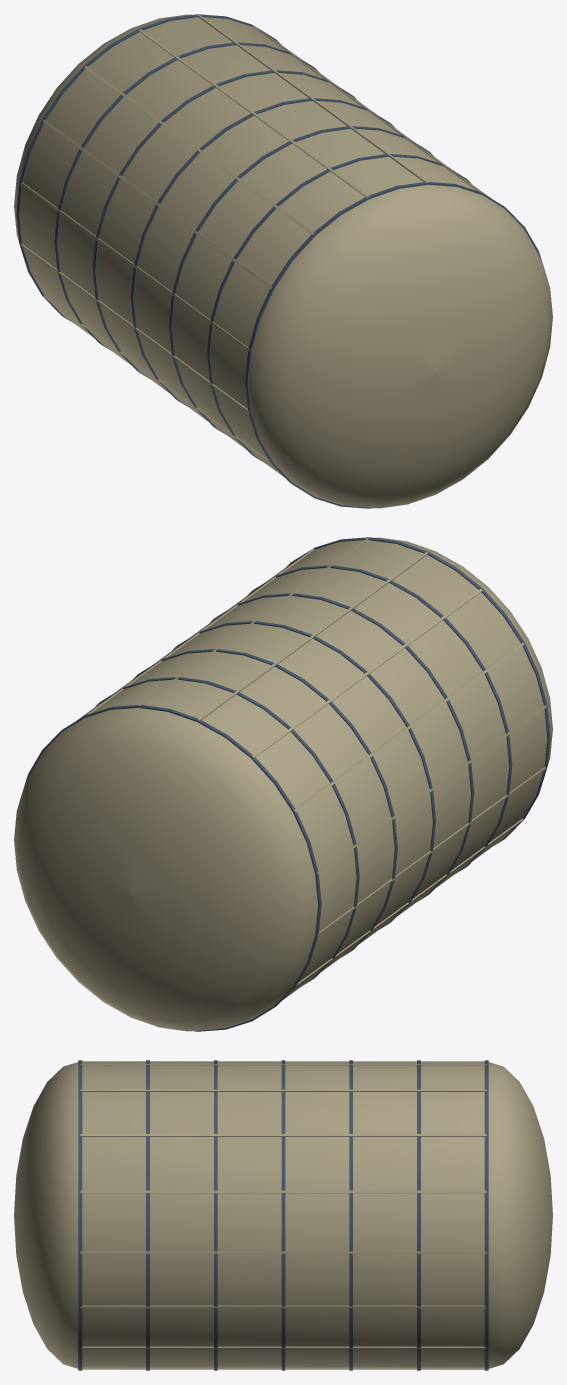
Rendered from kc1000_insulation.obj.
3 renders of one model, top to bottom at view 1: azimuth 30°, elevation 25°; view 2: azimuth 150°, elevation 25°; view 3: azimuth 270°, elevation 25°, orthographic. The views are drawn at different scales.
Visible parts, largest first — view 1: kc1000_insulation; view 2: kc1000_insulation; view 3: kc1000_insulation.
Boxes of the visible parts, bbox=[...] form: kc1000_insulation: bbox=[14, 14, 552, 508]; kc1000_insulation: bbox=[14, 537, 552, 1031]; kc1000_insulation: bbox=[14, 1060, 552, 1370].
Size of the model in its own units: 7.95 by 7.95 by 13.8.
